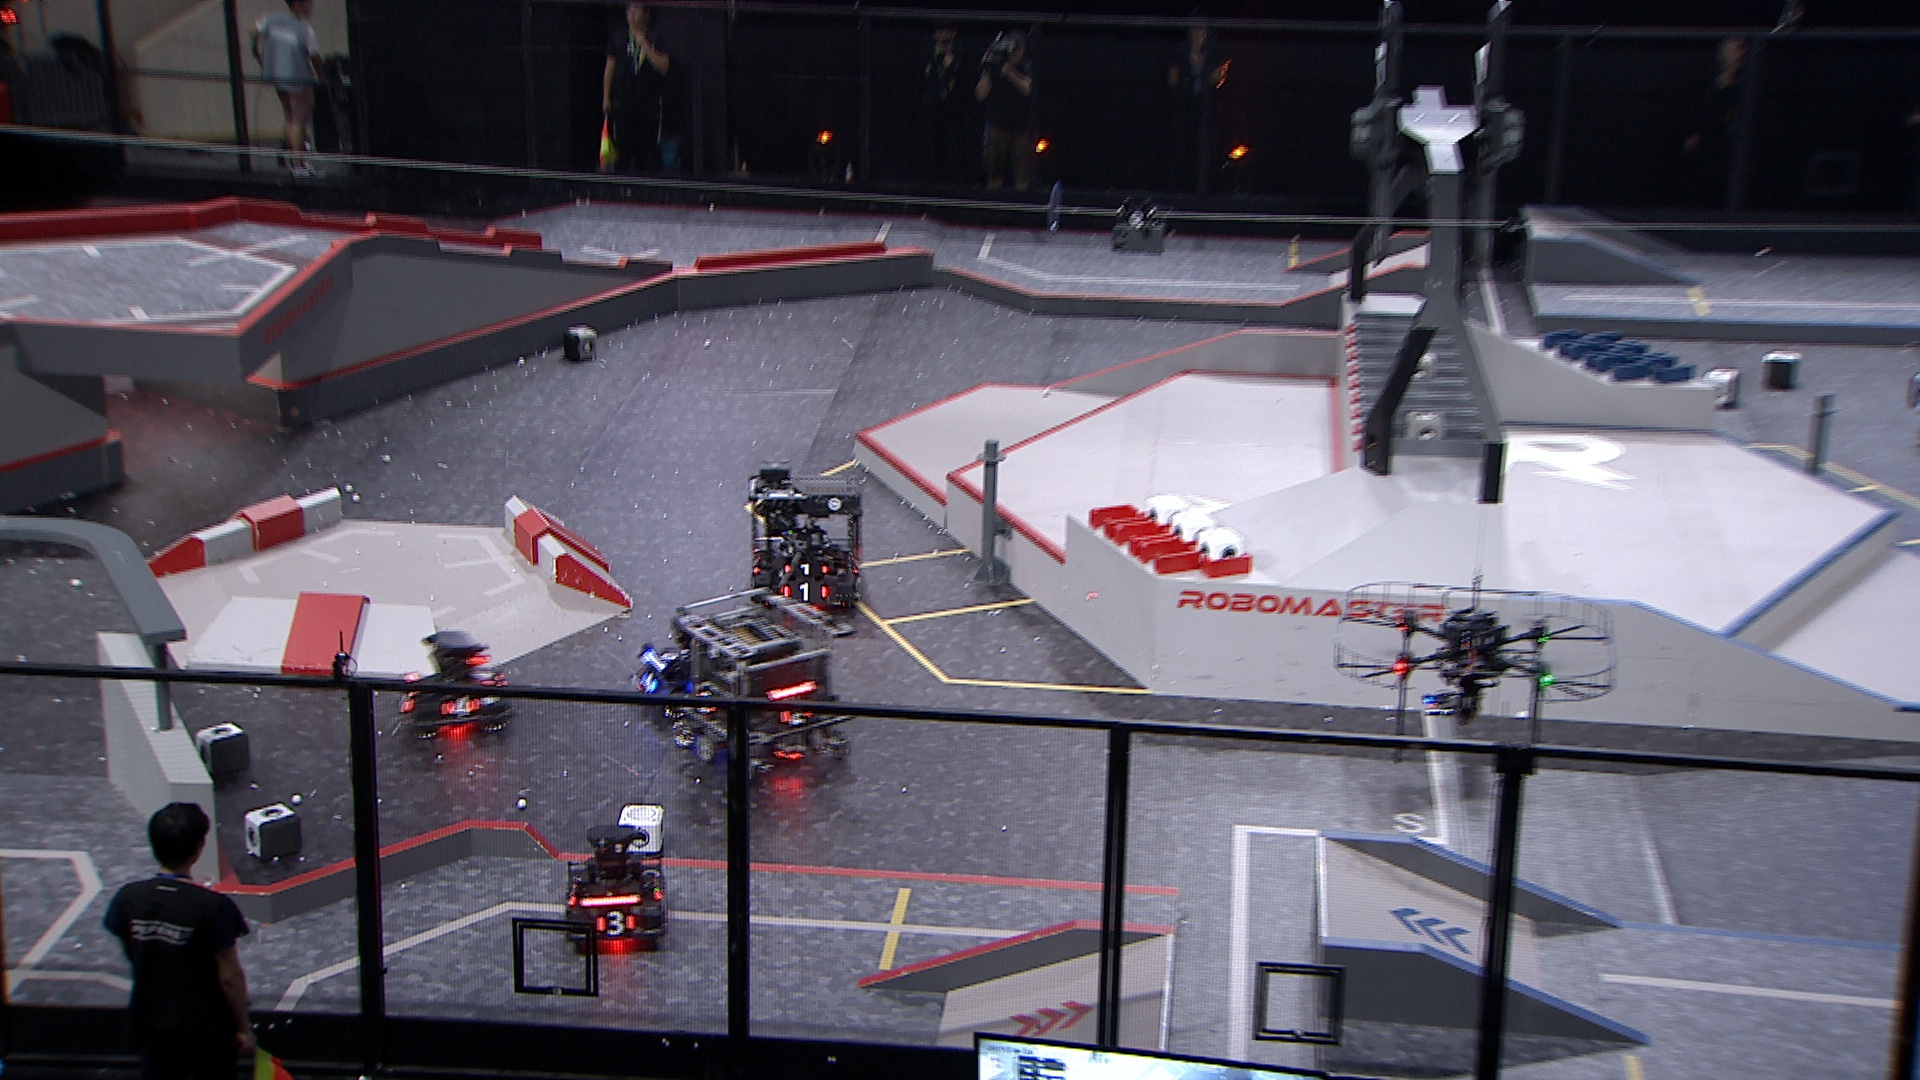armor: (591, 911, 636, 940), (779, 580, 832, 604), (440, 695, 484, 717), (690, 690, 721, 717), (778, 705, 814, 727), (636, 669, 662, 695), (782, 562, 829, 576), (473, 666, 500, 688)
car: (665, 583, 858, 785), (737, 462, 873, 613), (560, 823, 675, 953), (394, 628, 518, 741), (626, 618, 740, 721)
